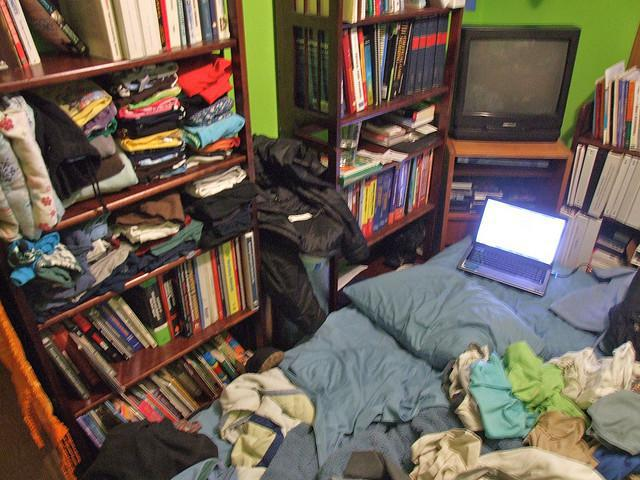tv: (464, 26, 571, 140), (477, 200, 554, 295)
